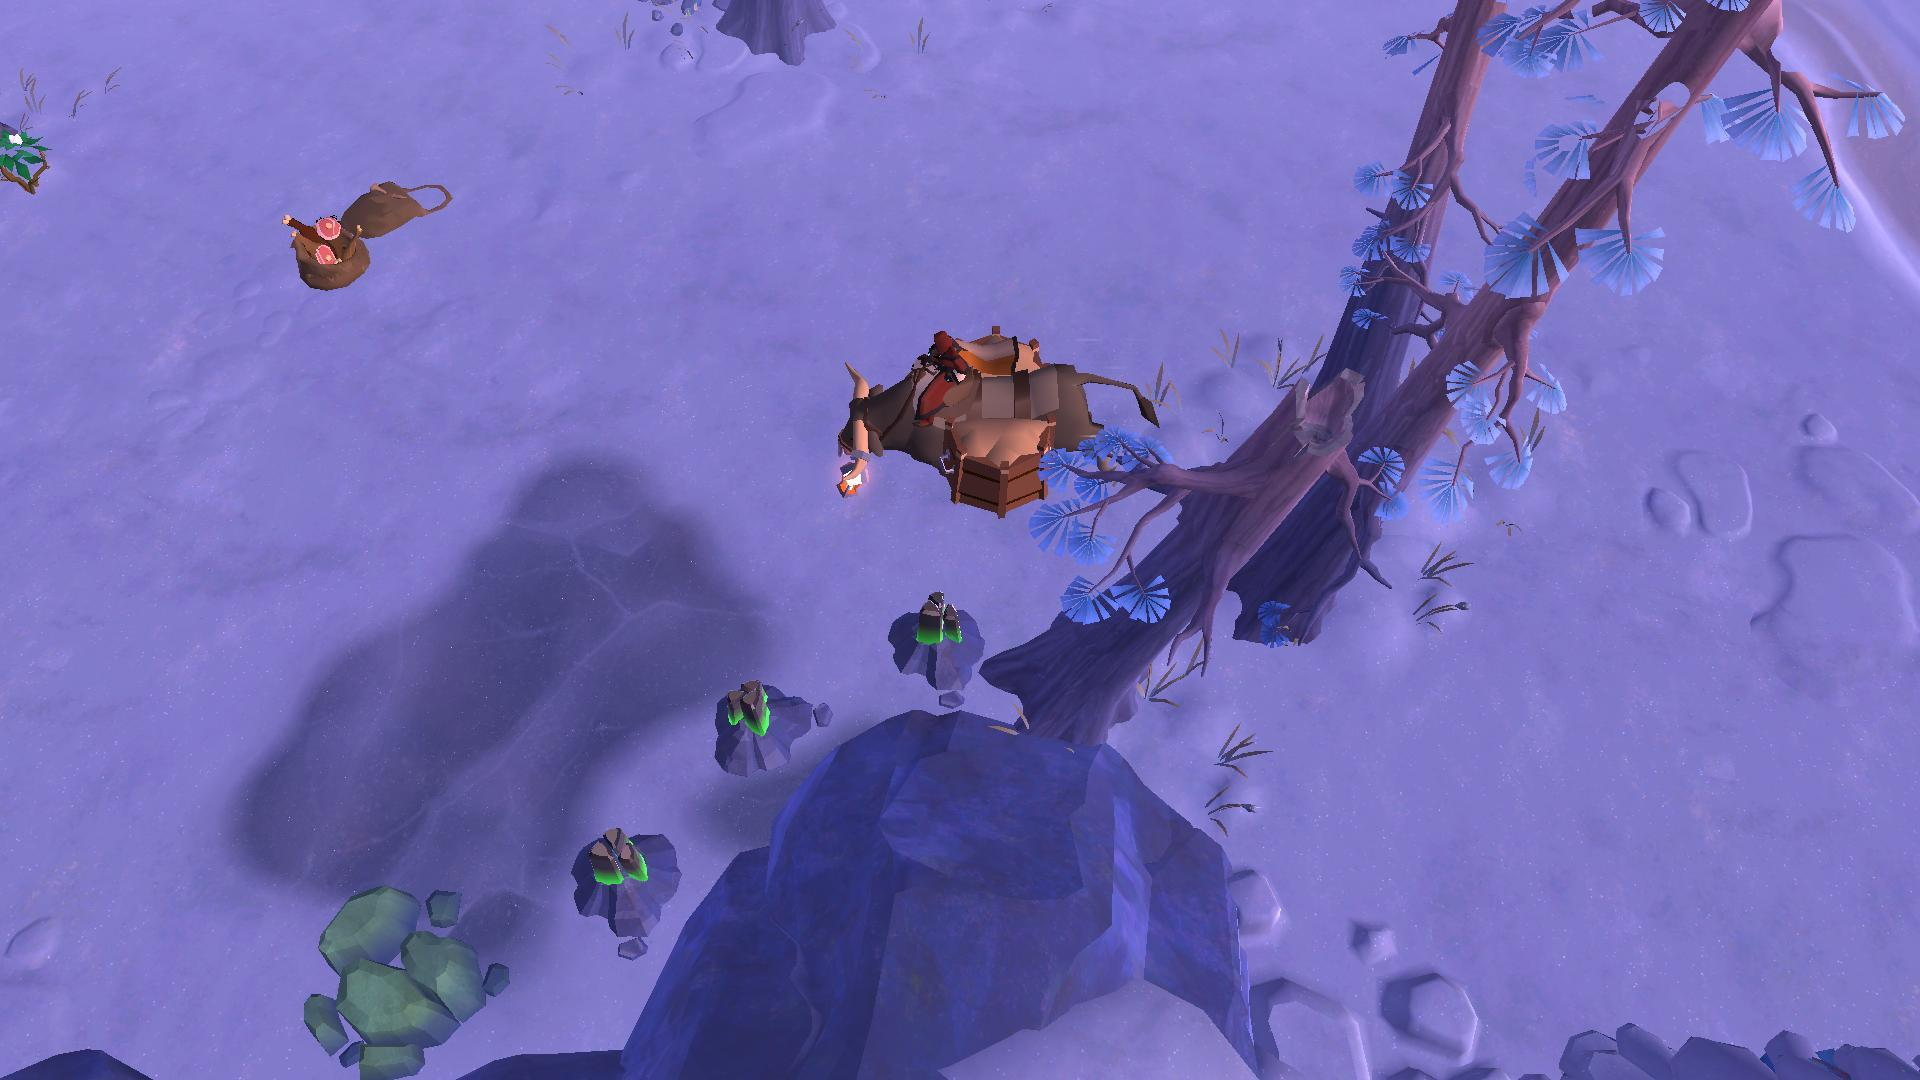fiber_t3: (0, 109, 61, 195)
ore_t3: (574, 818, 650, 891), (905, 589, 963, 654), (721, 675, 774, 740)
rock_t3: (295, 870, 522, 1080)
